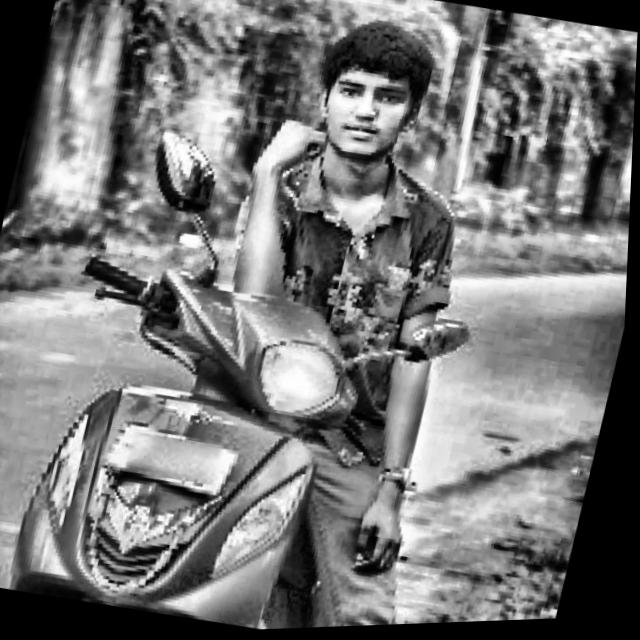motorcycle: (0, 94, 554, 639)
